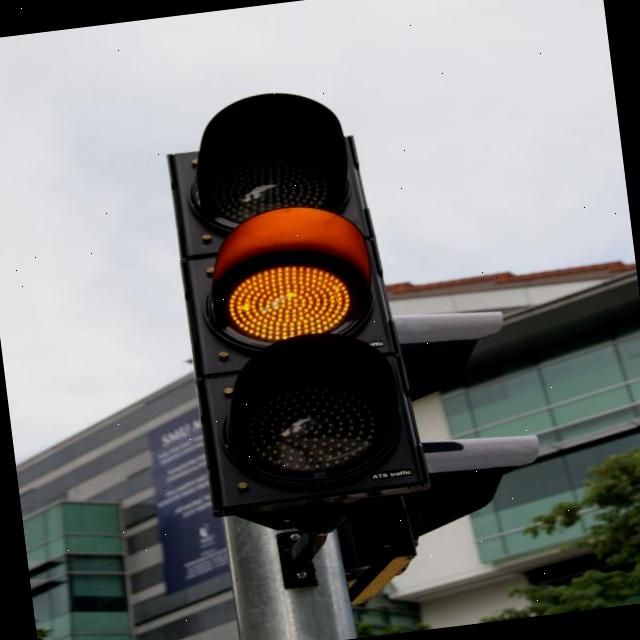yellow_light: (158, 78, 424, 506)
